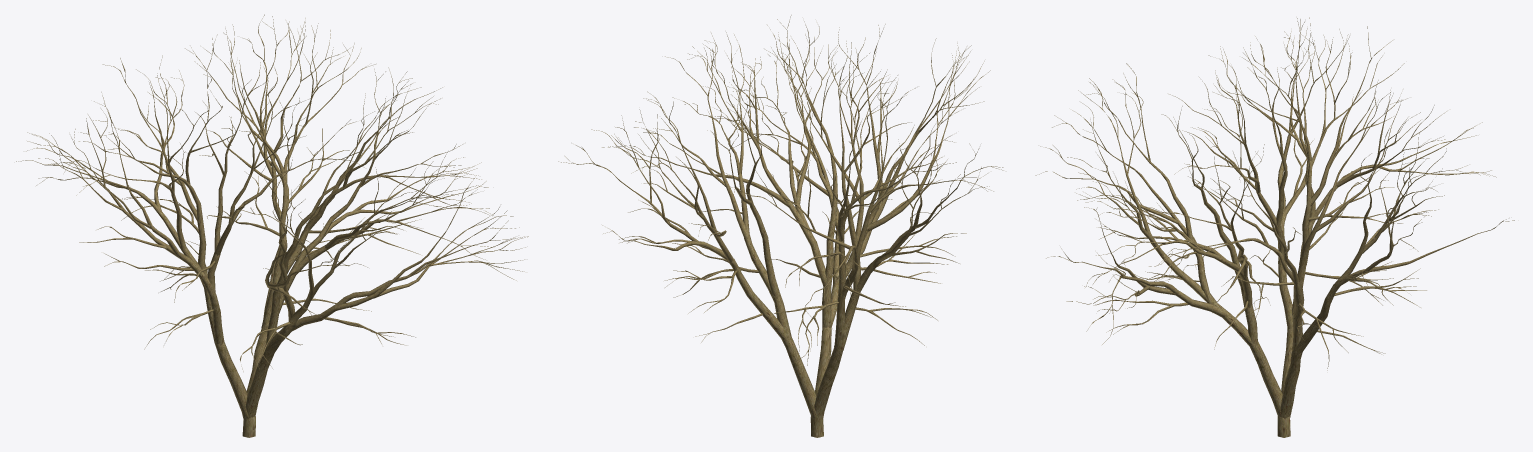
The model's file is basic_terrain_v3_tree.dae.
The picture shows the model from 3 angles, left to right: view 1: azimuth 30°, elevation 25°; view 2: azimuth 150°, elevation 25°; view 3: azimuth 270°, elevation 25°; orthographic projection.
Parts seen in each view (by area): view 1: tree; view 2: tree; view 3: tree.
Part boxes in pixels (x1,y1,x2,y2): tree: (16, 14, 528, 437); tree: (558, 15, 1003, 437); tree: (1035, 17, 1514, 437).
Size of the model in its own units: 9.66 by 10.13 by 8.72.
Materials: 1 (1 with a texture image).
